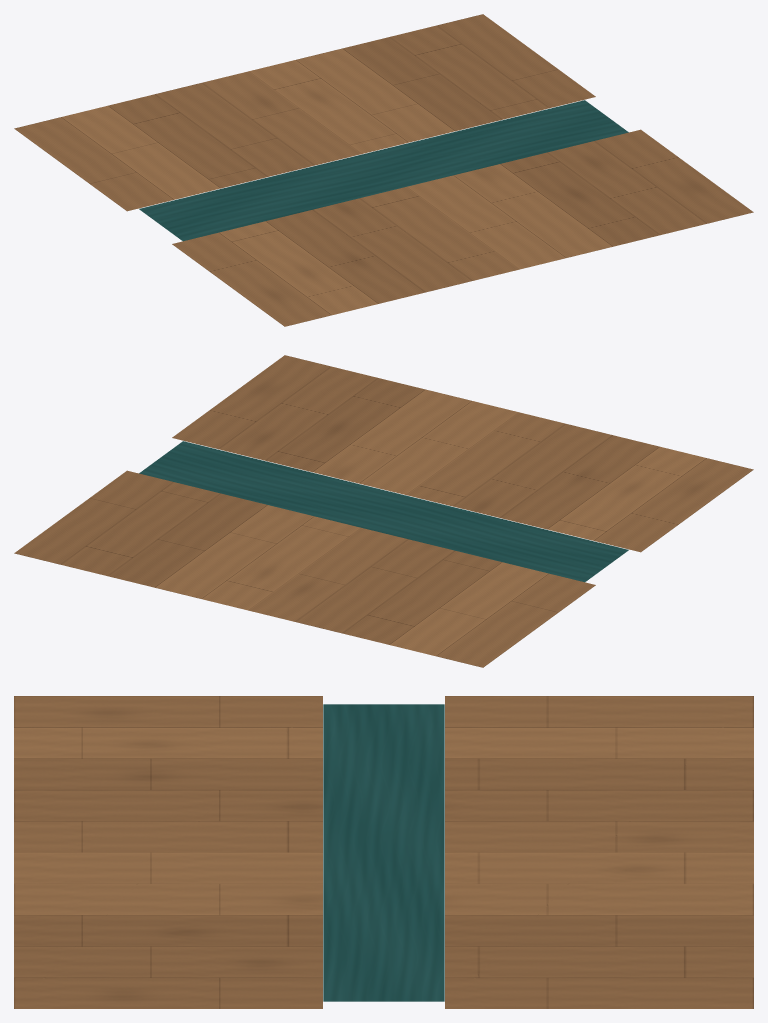
File: stage_surfaces.glb
3 renders of one model, top to bottom at view 1: azimuth 30°, elevation 25°; view 2: azimuth 150°, elevation 25°; view 3: azimuth 270°, elevation 25°, orthographic. The views are drawn at different scales.
Visible parts, largest first — view 1: NearWood, FarWood, River; view 2: NearWood, FarWood, River; view 3: NearWood, FarWood, River.
Part boxes in pixels (left/top/right/bottom): NearWood: left=172, top=129, right=753, bottom=326; FarWood: left=14, top=14, right=595, bottom=211; River: left=139, top=100, right=628, bottom=241; NearWood: left=172, top=355, right=753, bottom=552; FarWood: left=14, top=470, right=595, bottom=667; River: left=139, top=441, right=628, bottom=582; NearWood: left=14, top=696, right=322, bottom=1008; FarWood: left=445, top=696, right=753, bottom=1008; River: left=323, top=704, right=444, bottom=1001.
Bounding box in the file's own units: 1.7 × 0.0011 × 1.7.
Materials: 2 (2 with a texture image).
